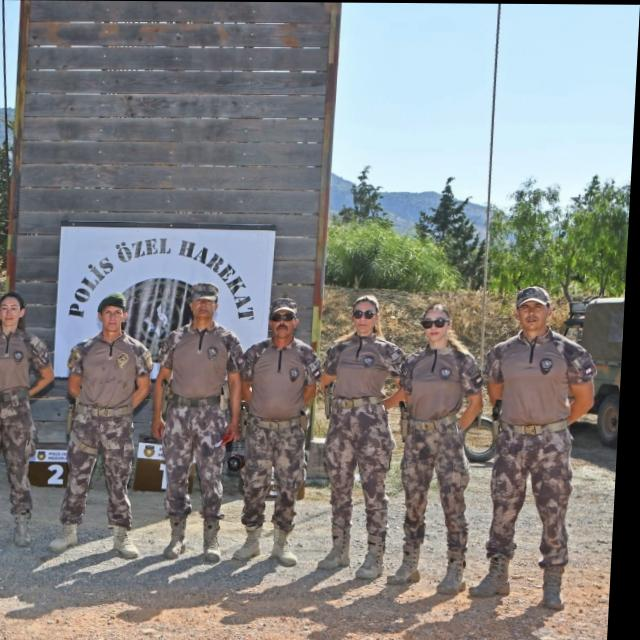poh_personel: (476, 284, 606, 608), (392, 301, 492, 593), (151, 281, 250, 562), (317, 294, 413, 581), (63, 290, 160, 560), (239, 297, 325, 565), (0, 290, 62, 548)
